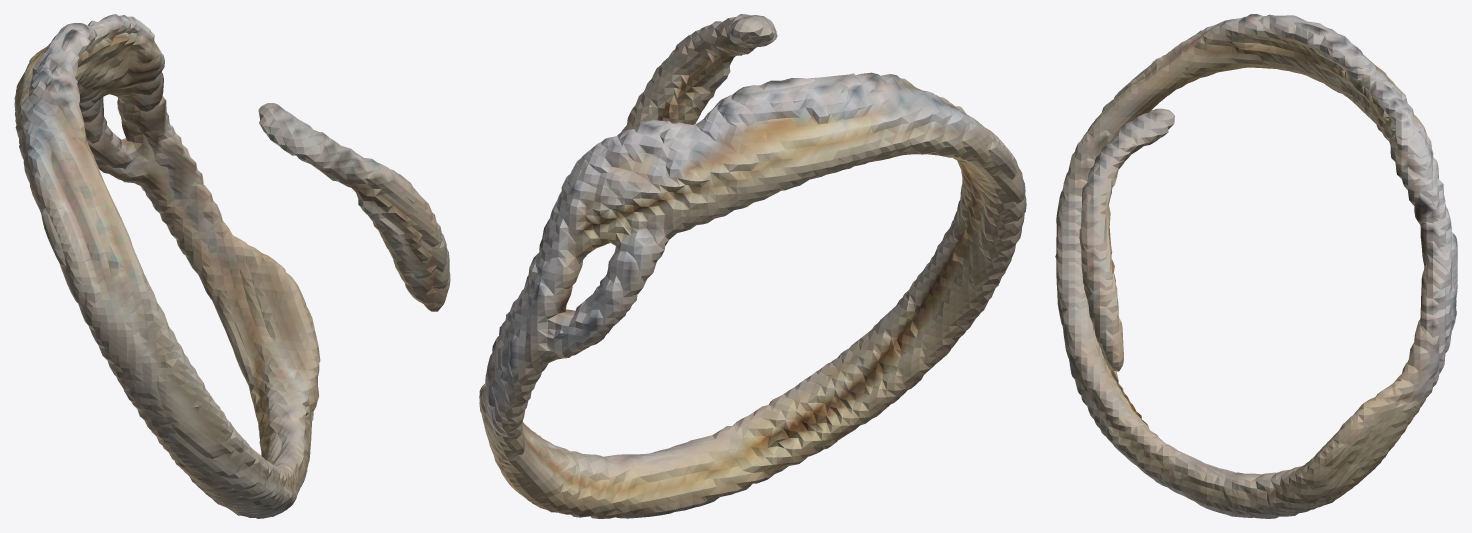
File: sample-ring.glb
3 views of the same model, side by side, from view 1: azimuth 30°, elevation 25°; view 2: azimuth 150°, elevation 25°; view 3: azimuth 270°, elevation 25° (orthographic). The views are drawn at different scales.
Visible parts, largest first — view 1: world; view 2: world; view 3: world.
Part boxes in pixels (box(x1,y1,x2,y2)): world: box(14, 14, 450, 518); world: box(479, 14, 1026, 518); world: box(1055, 14, 1457, 518).
Size of the model in its own units: 0.8553 by 0.9952 by 0.878.
